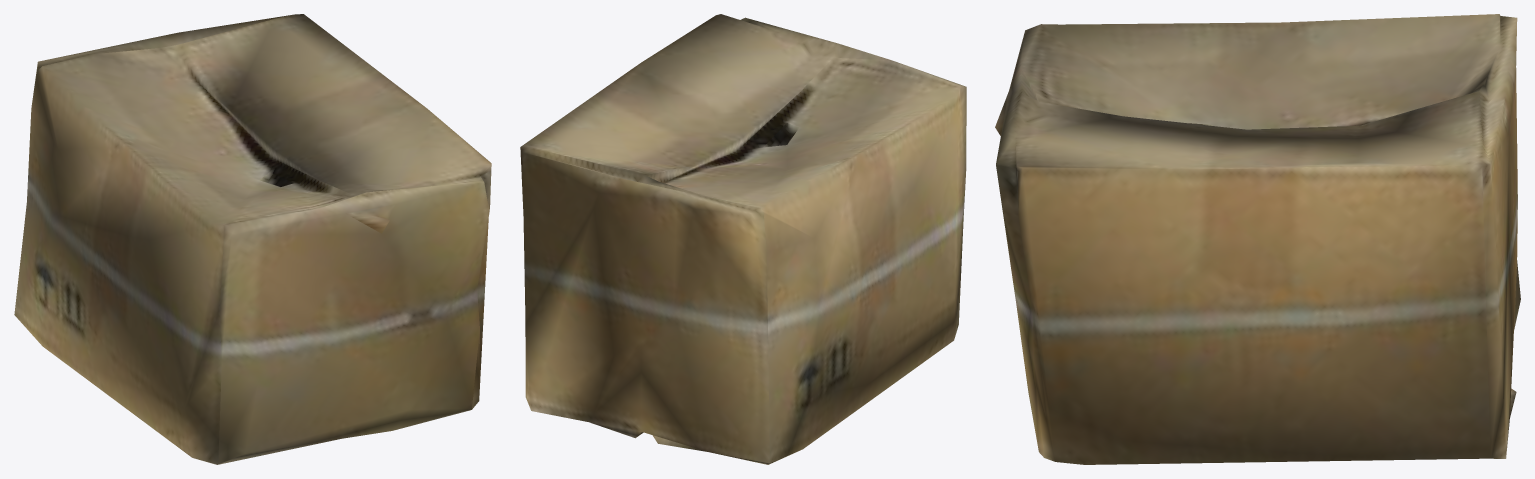
The model's file is cardboard_box_01.glb.
3 renders of one model, left to right at view 1: azimuth 30°, elevation 25°; view 2: azimuth 150°, elevation 25°; view 3: azimuth 270°, elevation 25°, orthographic. The views are drawn at different scales.
Visible parts, largest first — view 1: cardboard_box_01; view 2: cardboard_box_01; view 3: cardboard_box_01.
Boxes of the visible parts, left/top/right/bottom form: cardboard_box_01: left=14, top=14, right=491, bottom=464; cardboard_box_01: left=520, top=14, right=966, bottom=464; cardboard_box_01: left=995, top=14, right=1520, bottom=464.
Bounding box in the file's own units: 0.3791 × 0.3387 × 0.5159.
Materials: 1 (1 with a texture image).
